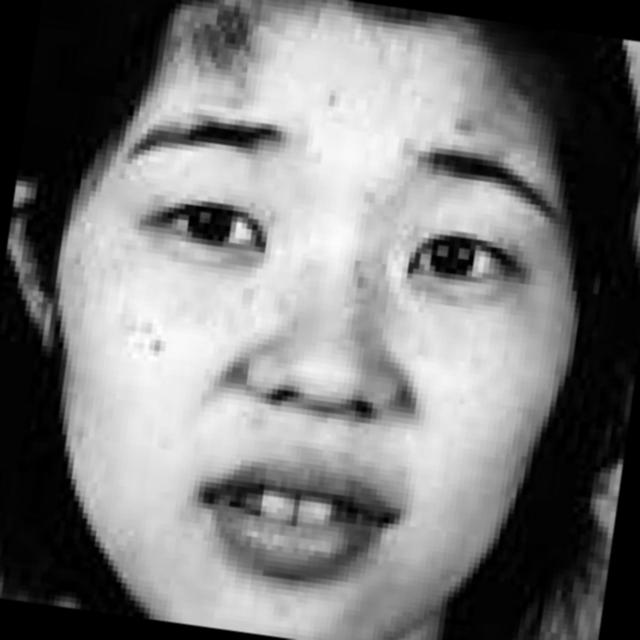fear: (54, 9, 585, 640)
